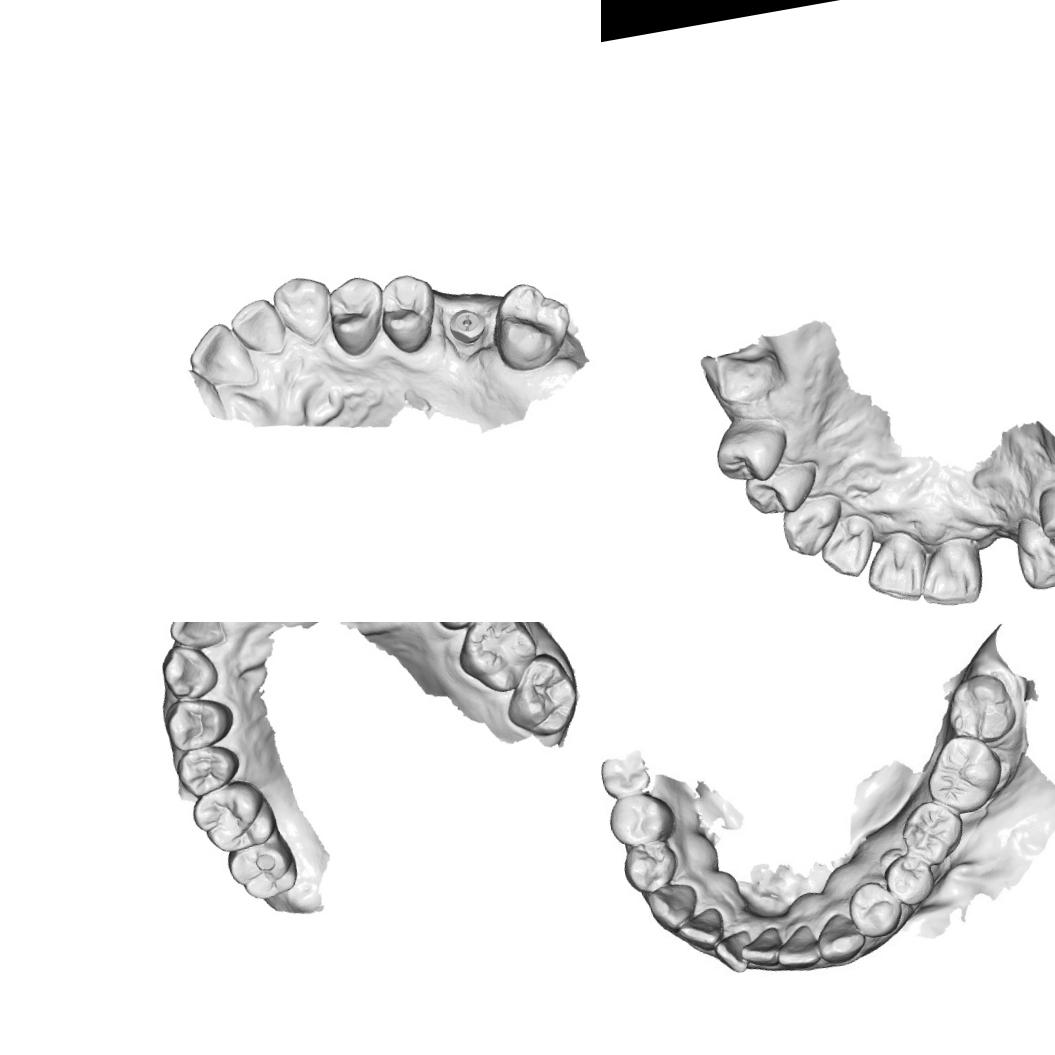canine: (776, 489, 849, 560), (268, 270, 335, 346), (156, 638, 222, 705), (1009, 509, 1055, 594), (812, 907, 869, 966), (642, 880, 702, 934)
implant_minus: (446, 300, 489, 346)
incisor: (858, 524, 936, 610), (912, 532, 988, 613), (184, 317, 258, 397), (814, 510, 884, 582), (222, 291, 288, 361), (673, 904, 728, 952), (772, 921, 822, 972), (736, 924, 786, 972), (710, 928, 755, 976), (162, 622, 227, 653)
molar: (482, 273, 578, 375), (917, 728, 1009, 820), (498, 646, 584, 742), (184, 775, 282, 858), (447, 622, 544, 700), (939, 667, 1022, 749), (222, 830, 302, 905), (893, 793, 970, 870)
premolar: (709, 408, 794, 488), (318, 271, 392, 358), (370, 268, 441, 358), (740, 456, 830, 518), (160, 690, 238, 752), (603, 786, 679, 848), (617, 834, 686, 898), (171, 742, 244, 800), (842, 876, 905, 943), (880, 850, 940, 910), (1032, 478, 1055, 562)
